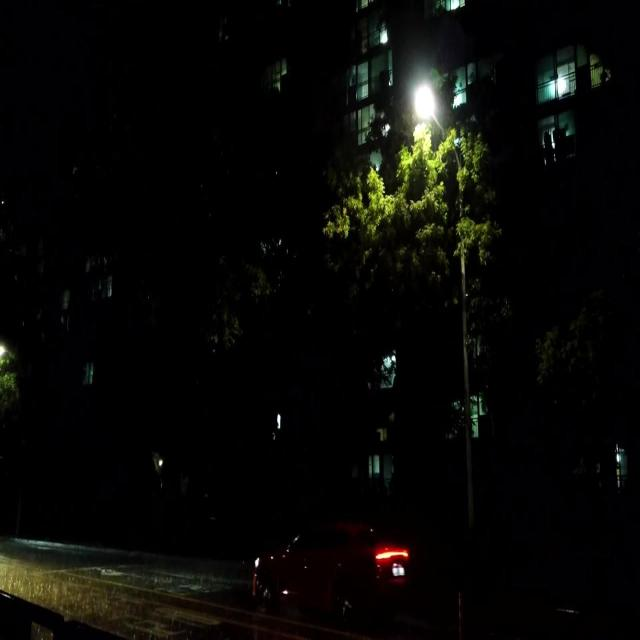Car: (242, 513, 407, 615)
